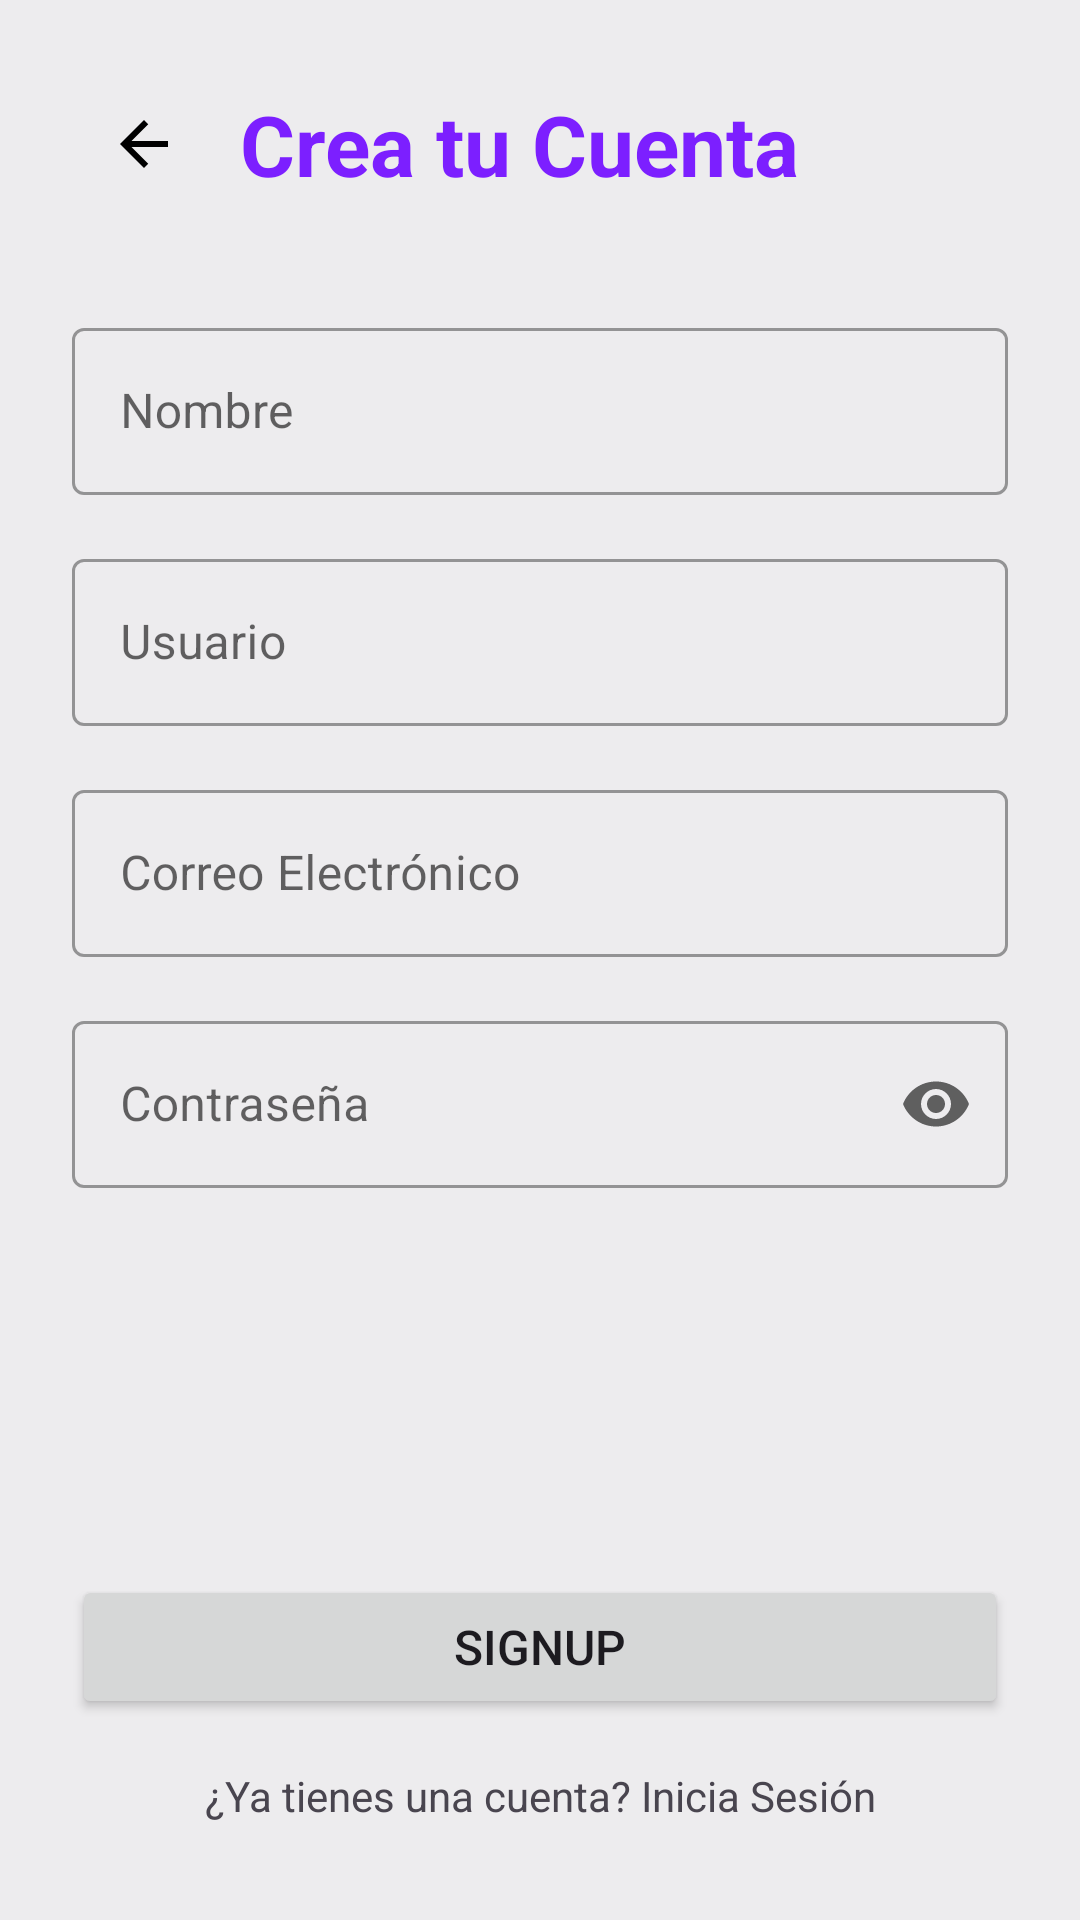

Point at icon controls on the screen. Image size 1080px x 1920px, points as (x,y).
Ir atrás: (144,144)
